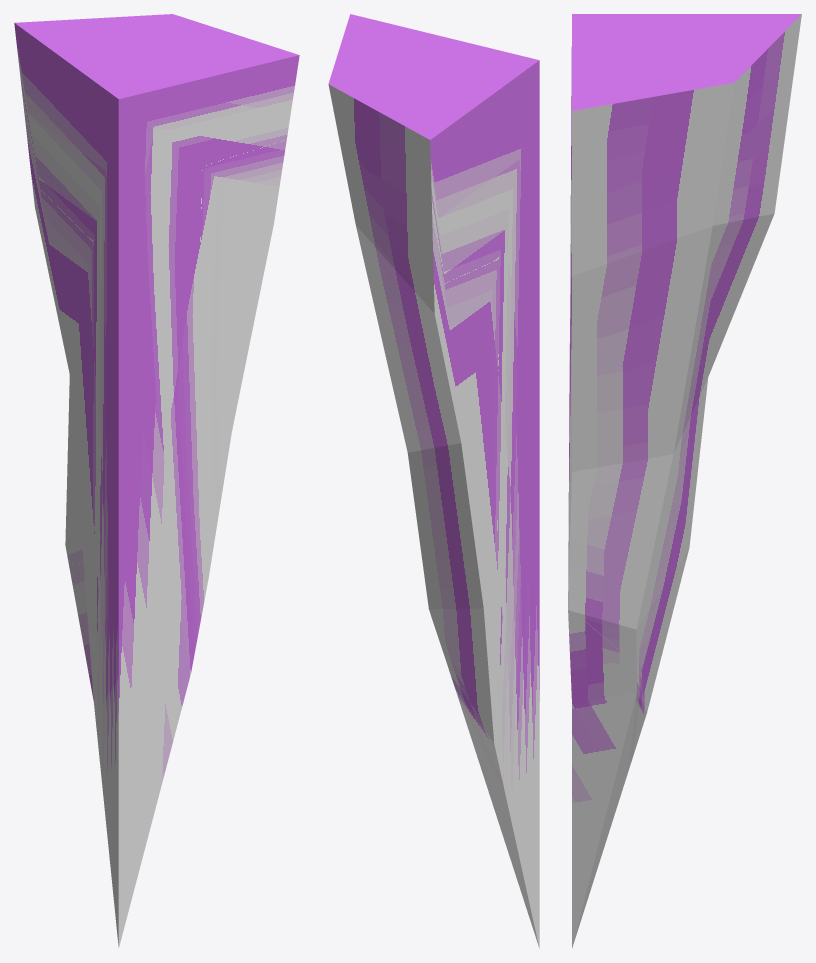
The model's file is IcicleBreak.gltf.
3 renders of one model, left to right at view 1: azimuth 30°, elevation 25°; view 2: azimuth 150°, elevation 25°; view 3: azimuth 270°, elevation 25°, orthographic. The views are drawn at different scales.
Visible parts, largest first — view 1: Icicle1; view 2: Icicle1; view 3: Icicle1.
Part boxes in pixels (x1=…): Icicle1: x1=14, y1=14, x2=299, y2=948; Icicle1: x1=328, y1=14, x2=539, y2=948; Icicle1: x1=568, y1=14, x2=801, y2=948.
Size of the model in its own units: 1 by 4.49 by 1.02.
1 material, 1 textured.
